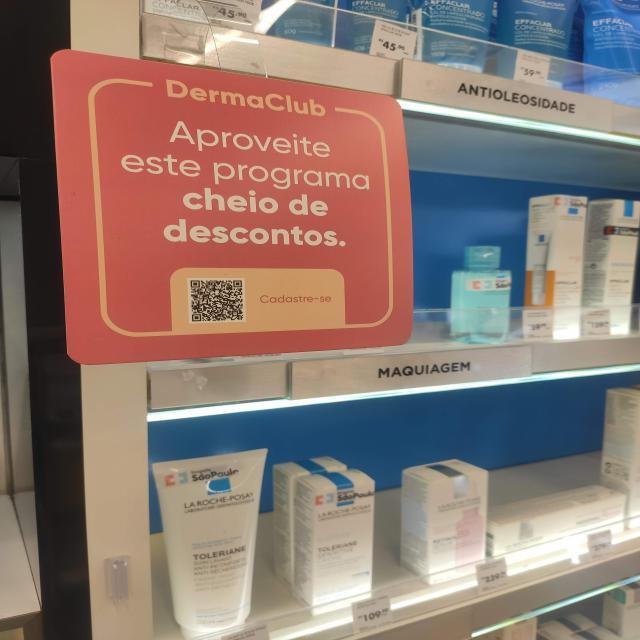qrcode: (192, 282, 245, 323)
